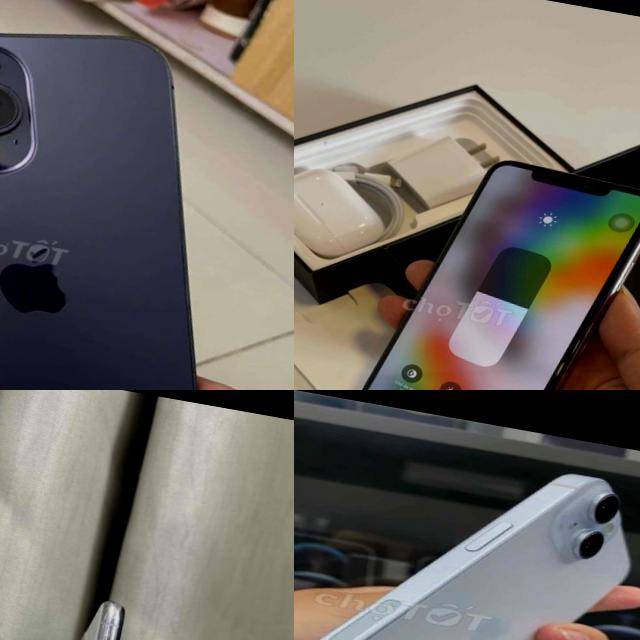scratch: (0, 69, 40, 154), (93, 594, 131, 640), (633, 188, 640, 215)
